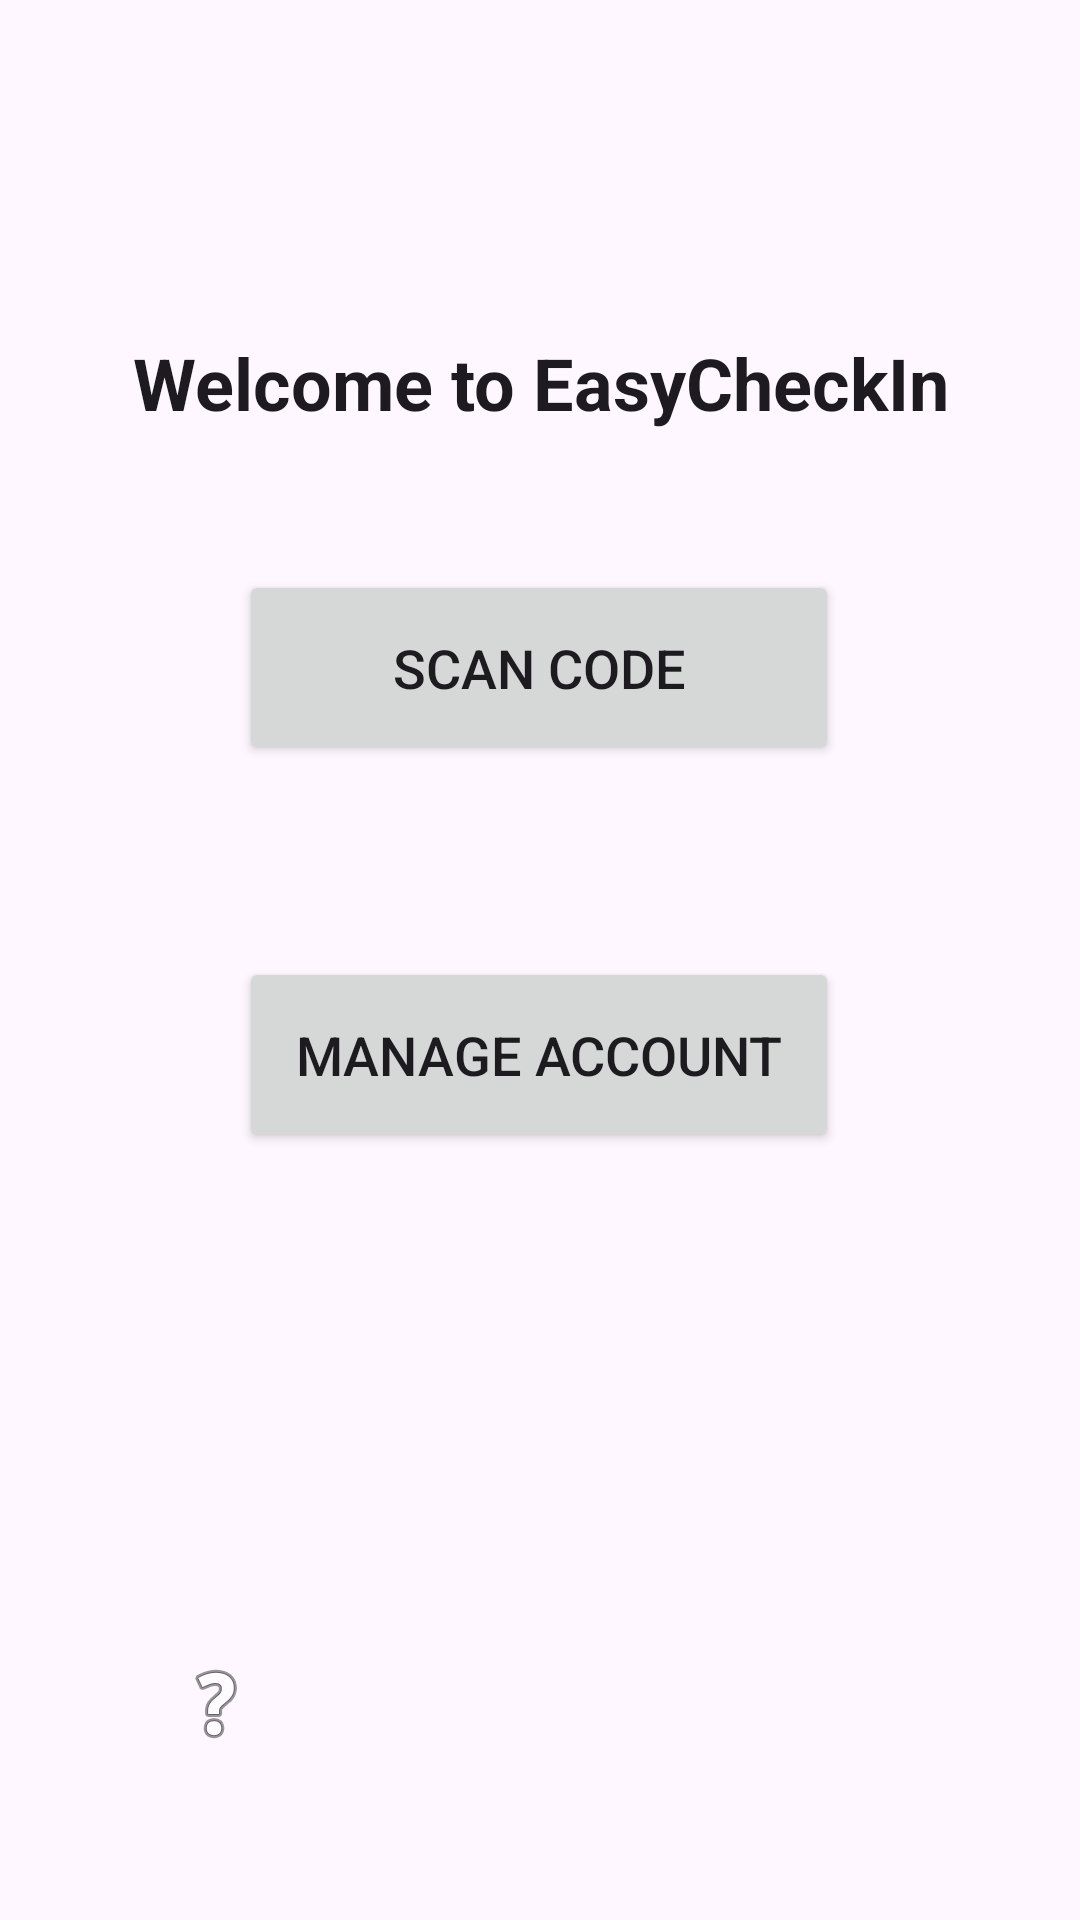

Icon bounding boxes for this 1080×1920 phone screenshot, format bbox=(x1, y1, x2, y2):
Help: bbox=(195, 1670, 237, 1738)
